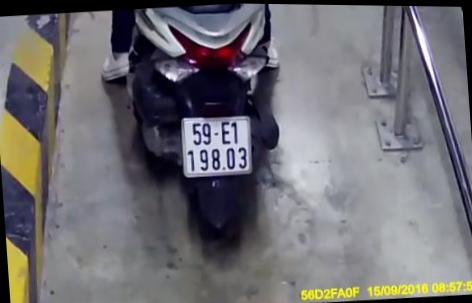LP: (178, 109, 255, 179)
